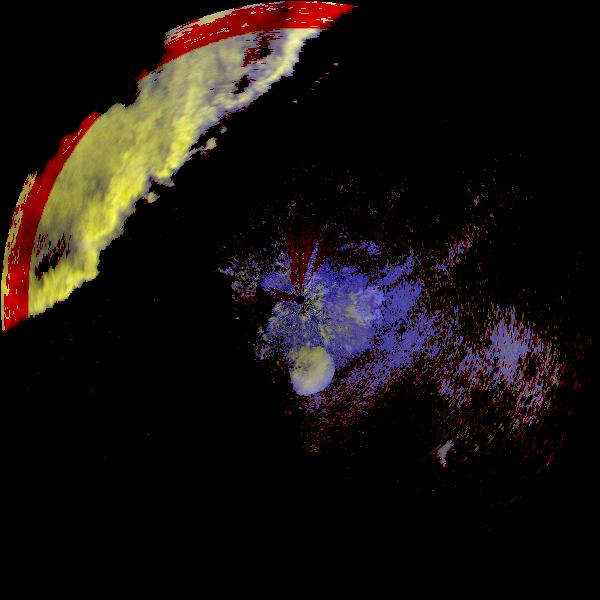roost: (274, 336, 346, 408), (333, 277, 393, 337), (432, 432, 486, 486)
